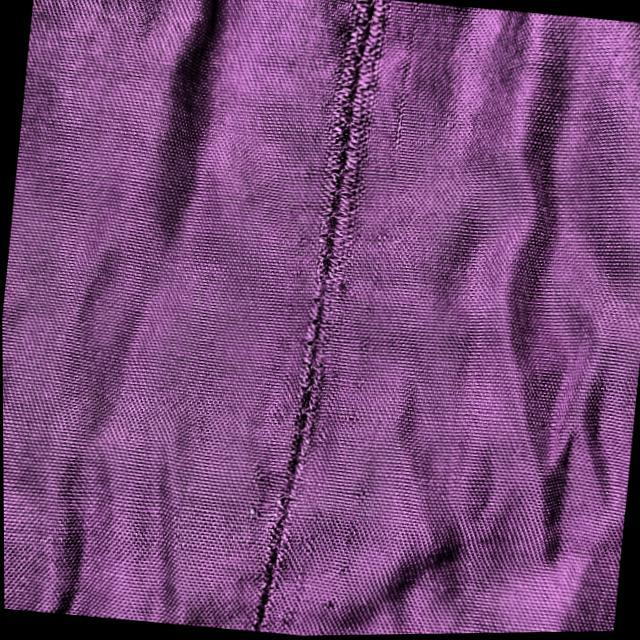seam: (249, 0, 394, 636)
